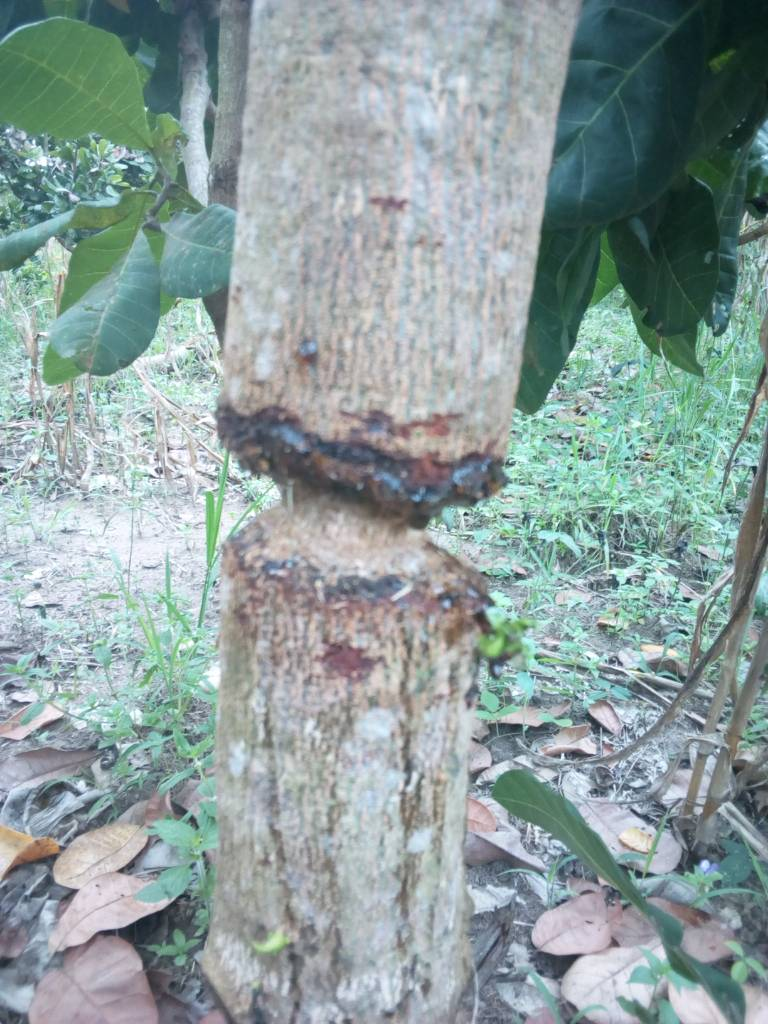Analepse trifasciata: (174, 385, 524, 630)
